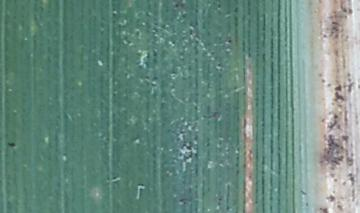tarspot: (7, 139, 20, 150), (226, 39, 235, 44)
